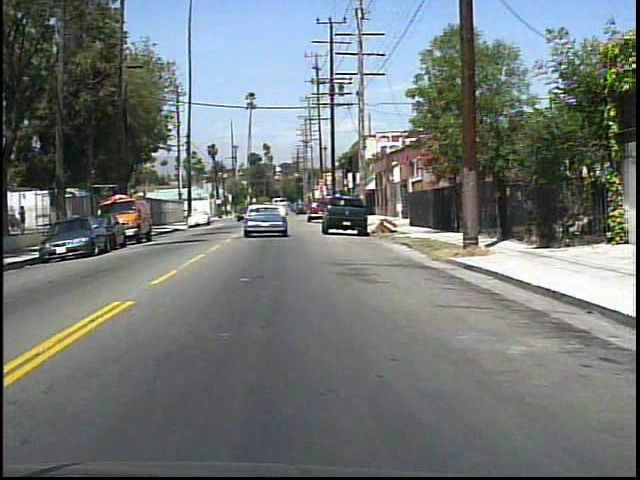person: (20, 203, 32, 235)
